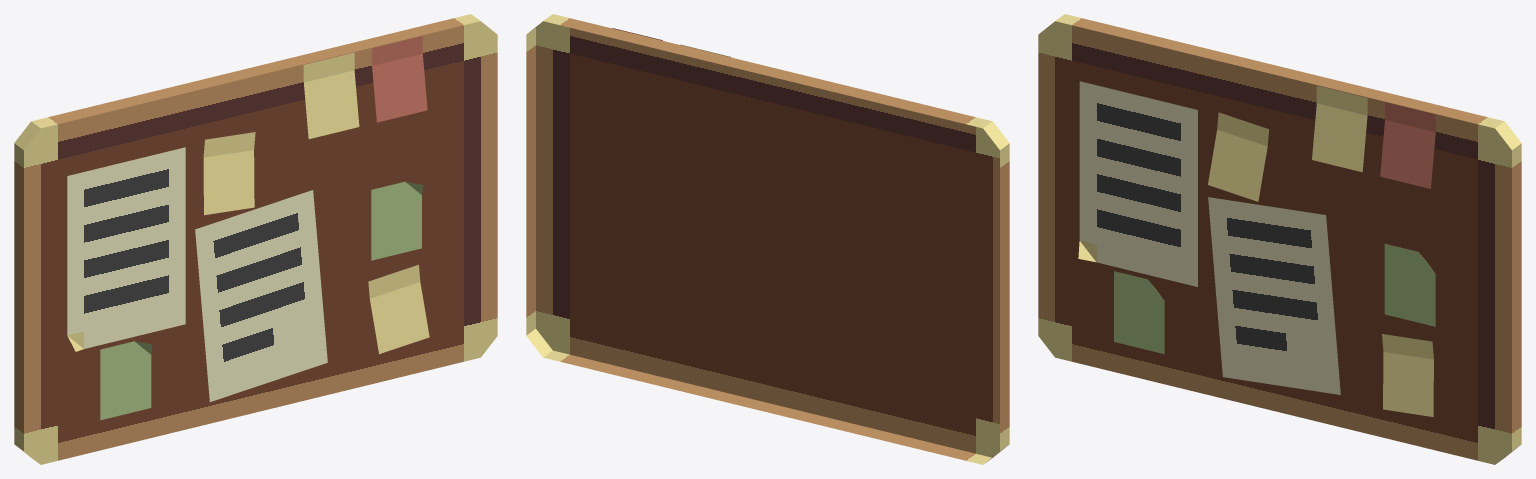
File: SM_CorkBoard.fbx
The picture shows the model from 3 angles, left to right: view 1: azimuth 30°, elevation 25°; view 2: azimuth 150°, elevation 25°; view 3: azimuth 330°, elevation 25°; orthographic projection.
Visible parts, largest first — view 1: CorkBoard.001; view 2: CorkBoard.001; view 3: CorkBoard.001.
Part boxes in pixels (box(x1,y1,x2,y2)): CorkBoard.001: box(14, 14, 497, 464); CorkBoard.001: box(526, 14, 1009, 464); CorkBoard.001: box(1038, 14, 1521, 464).
Bounding box in the file's own units: 87.5 × 59.38 × 4.98.
